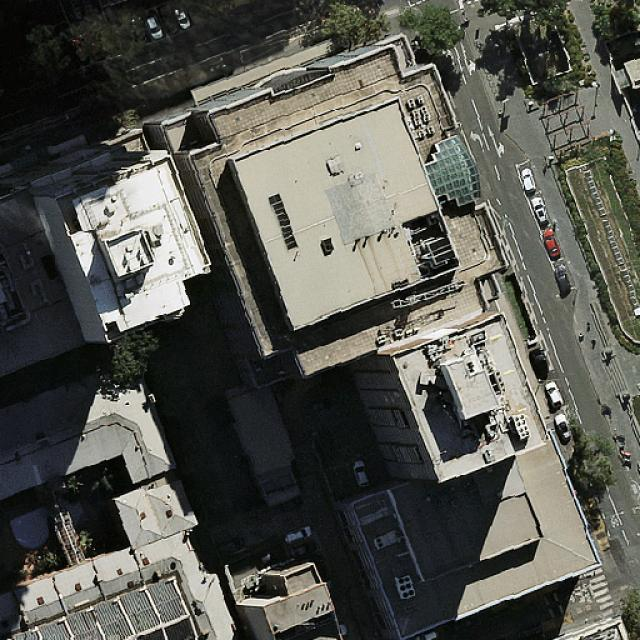Bike-Symbols: (565, 405, 579, 420), (500, 215, 512, 228)
